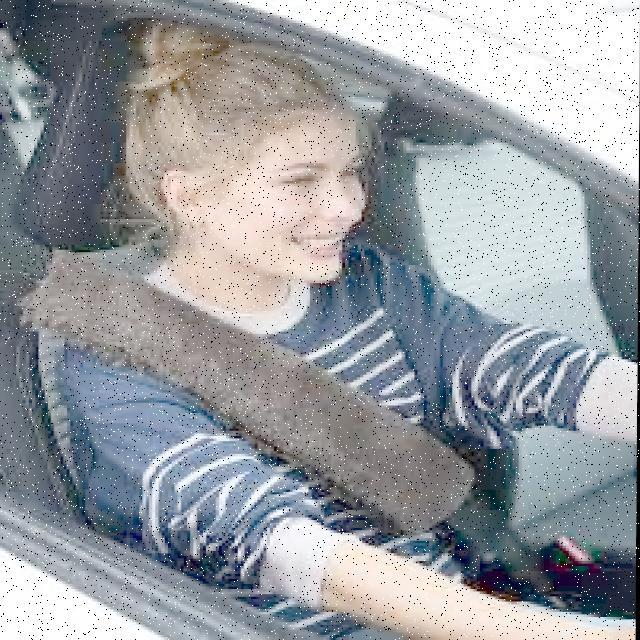seatbelt: (11, 228, 561, 594)
